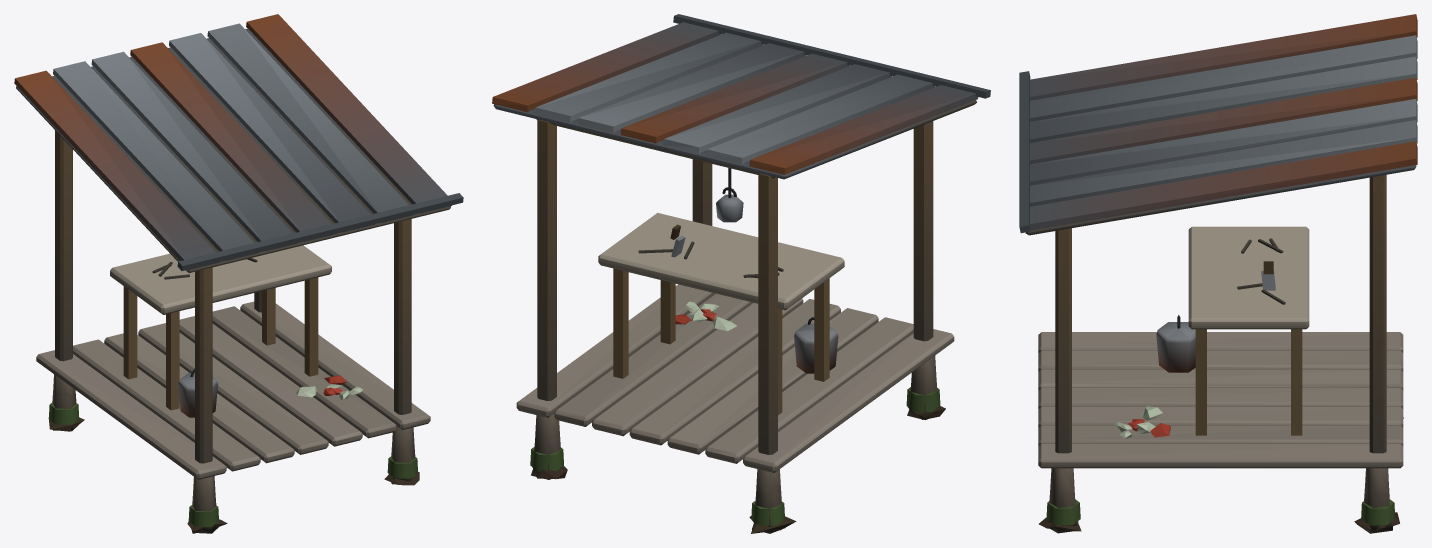
Rendered from fish-cleaning-leanto.glb.
3 views of the same model, side by side, from view 1: azimuth 30°, elevation 25°; view 2: azimuth 150°, elevation 25°; view 3: azimuth 270°, elevation 25° (orthographic). The views are drawn at different scales.
Parts seen in each view (by area): view 1: fish_cleaning_leanto; view 2: fish_cleaning_leanto; view 3: fish_cleaning_leanto.
Boxes of the visible parts, x1,y1,x2,y2 form: fish_cleaning_leanto: [14, 14, 463, 533]; fish_cleaning_leanto: [492, 14, 990, 533]; fish_cleaning_leanto: [1019, 14, 1417, 533].
Bounding box in the file's own units: 2.6 × 3.05 × 2.84.
